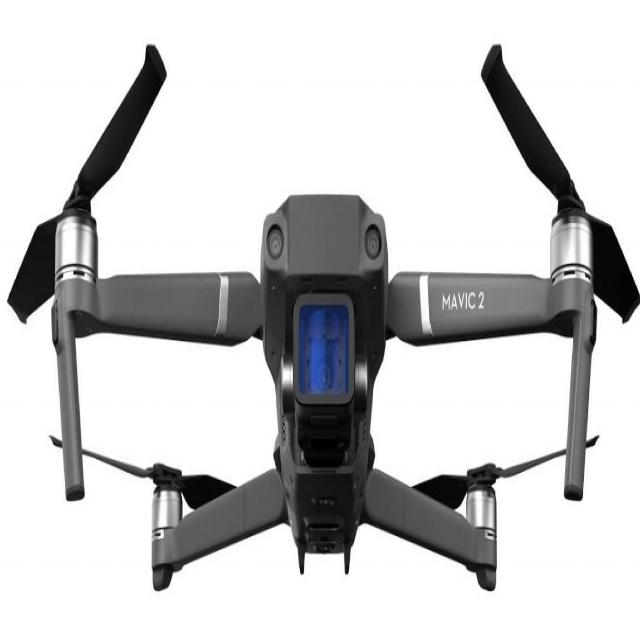drone: (0, 30, 635, 625)
